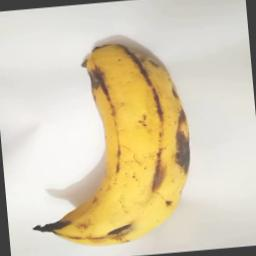Banana Unripe: (12, 34, 200, 253)
